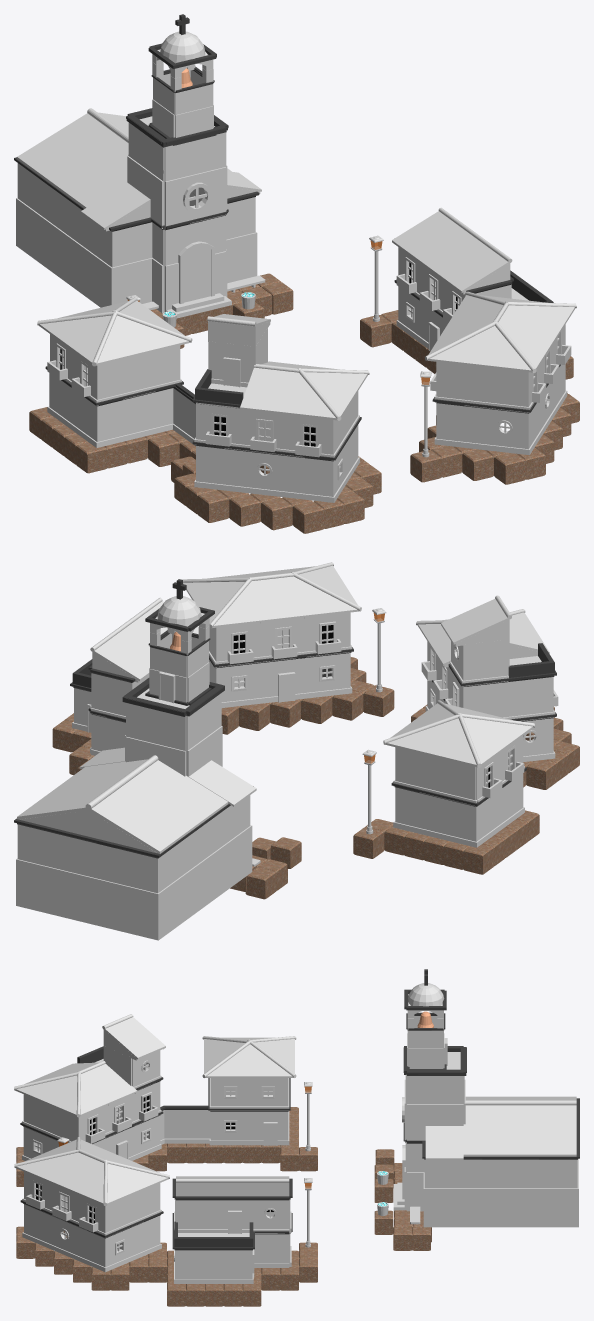
File: P_LevelStadium.fbx
The picture shows the model from 3 angles, top to bottom: view 1: azimuth 30°, elevation 25°; view 2: azimuth 150°, elevation 25°; view 3: azimuth 270°, elevation 25°; orthographic projection. The views are drawn at different scales.
Parts seen in each view (by area): view 1: 12_UF_Corner.019, 02_GF_Wall.017, 02_GF_Wall.010, 02_GF_Wall.012, 12_UF_Corner.057, 14_R_Center.016, 12_UF_Corner.041, 02_GF_Wall.018, 12_UF_Corner.063, 12_UF_Corner.017, 14_R_Center.015, 14_R_Center.045 (+58 smaller); view 2: 12_UF_Corner.018, 02_GF_Wall.013, 02_GF_Wall.010, 14_R_Center.016, 12_UF_Corner.022, 02_GF_Wall.016, 14_R_Center.015, 14_R_Center.007, 12_UF_Corner.055, 02_GF_Wall.018, 14_R_Center.071, 12_UF_Corner.043 (+60 smaller); view 3: 02_GF_Wall.009, 02_GF_Wall.019, 12_UF_Corner.022, 12_UF_Corner.017, 14_R_Center.007, 14_R_Center.015, 14_R_Center.016, 12_UF_Corner.065, 12_UF_Corner.054, 14_R_Center.071, 12_UF_Corner.049, 14_R_Center.074 (+64 smaller).
Boxes of the visible parts, <box> form: 12_UF_Corner.019: <box>87,218,152,307</box>; 02_GF_Wall.017: <box>164,127,226,228</box>; 02_GF_Wall.010: <box>39,176,88,297</box>; 02_GF_Wall.012: <box>164,211,226,311</box>; 12_UF_Corner.057: <box>71,385,139,447</box>; 14_R_Center.016: <box>17,108,128,175</box>; 12_UF_Corner.041: <box>286,437,348,502</box>; 02_GF_Wall.018: <box>126,116,164,228</box>; 12_UF_Corner.063: <box>481,401,542,455</box>; 12_UF_Corner.017: <box>226,191,259,283</box>; 14_R_Center.015: <box>40,125,128,192</box>; 14_R_Center.045: <box>240,361,313,414</box>; 12_UF_Corner.018: <box>116,837,183,940</box>; 02_GF_Wall.013: <box>57,829,117,930</box>; 02_GF_Wall.010: <box>181,804,229,922</box>; 14_R_Center.016: <box>17,787,182,853</box>; 12_UF_Corner.022: <box>14,818,58,915</box>; 02_GF_Wall.016: <box>125,698,186,776</box>; 14_R_Center.015: <box>40,771,205,836</box>; 14_R_Center.007: <box>63,755,228,820</box>; 12_UF_Corner.055: <box>434,791,500,847</box>; 02_GF_Wall.018: <box>186,687,223,776</box>; 14_R_Center.071: <box>235,570,307,622</box>; 12_UF_Corner.043: <box>449,639,508,686</box>; 02_GF_Wall.009: <box>463,1156,538,1227</box>; 02_GF_Wall.019: <box>407,1072,463,1140</box>; 12_UF_Corner.022: <box>539,1139,579,1227</box>; 12_UF_Corner.017: <box>422,1140,463,1227</box>; 14_R_Center.007: <box>463,1096,501,1156</box>; 14_R_Center.015: <box>501,1096,538,1156</box>; 14_R_Center.016: <box>539,1096,576,1156</box>; 12_UF_Corner.065: <box>76,1223,134,1272</box>; 12_UF_Corner.054: <box>208,1091,249,1145</box>; 14_R_Center.071: <box>46,1149,136,1191</box>; 12_UF_Corner.049: <box>172,1230,213,1283</box>; 14_R_Center.074: <box>73,1160,137,1205</box>.
Size of the model in its own units: 2300 by 1459 by 3003.
Materials: 13 (1 with a texture image).
